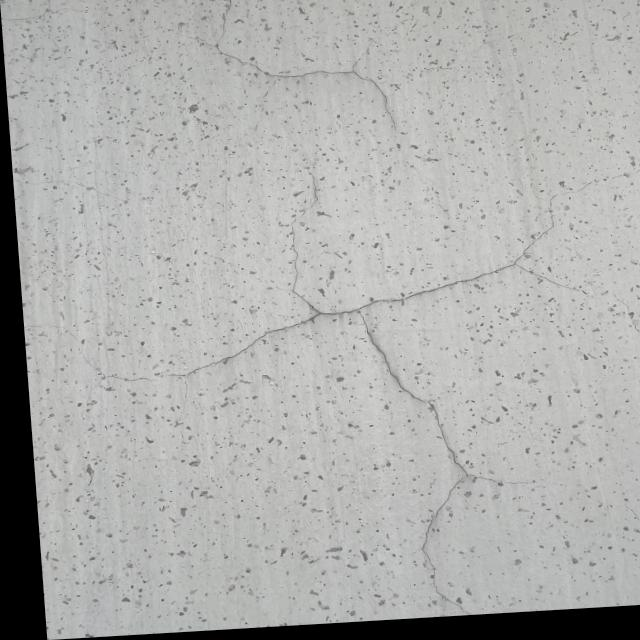crack: (113, 190, 579, 605), (183, 14, 427, 161)
